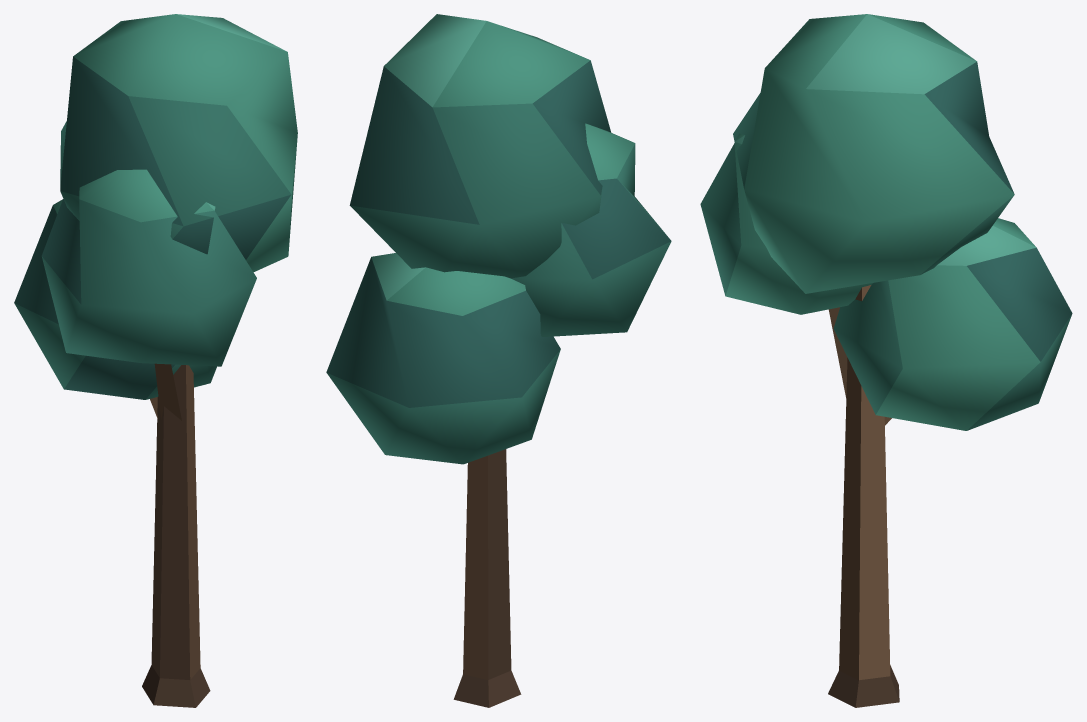
File: night-tree-a.glb
3 renders of one model, left to right at view 1: azimuth 30°, elevation 25°; view 2: azimuth 150°, elevation 25°; view 3: azimuth 270°, elevation 25°, orthographic.
Parts seen in each view (by area): view 1: night-tree-a; view 2: night-tree-a; view 3: night-tree-a.
Part boxes in pixels (x1,y1,x2,y2): night-tree-a: (14, 14, 297, 707); night-tree-a: (326, 14, 671, 707); night-tree-a: (700, 14, 1072, 707).
Size of the model in its own units: 5.04 by 12.44 by 6.17.
